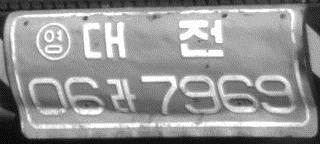0: (27, 76, 68, 116)
6: (216, 72, 260, 115), (62, 74, 105, 117)
7: (138, 72, 178, 117)
9: (179, 73, 221, 116), (255, 72, 296, 115)
대전_D: (80, 17, 225, 61)
라: (105, 76, 137, 113)
영: (33, 21, 72, 62)
